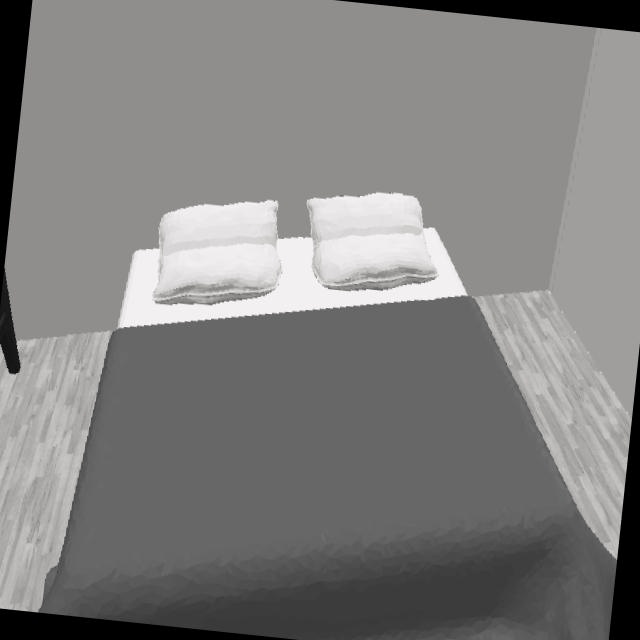bed: (38, 193, 617, 640)
pillow: (152, 200, 284, 307), (306, 193, 438, 292)
